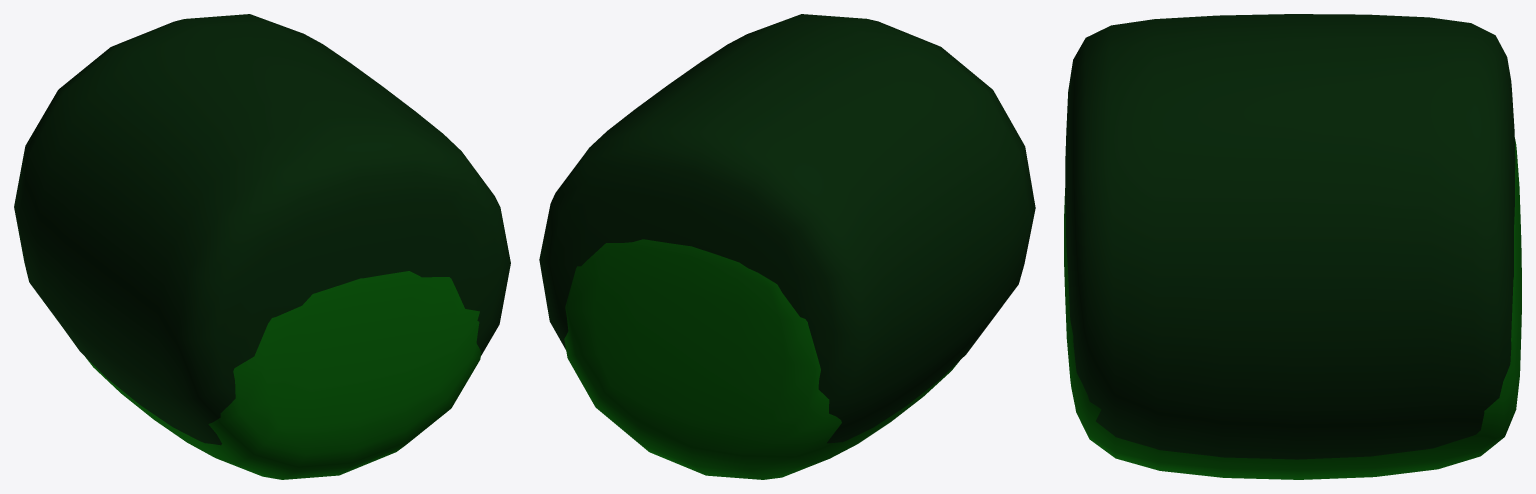
Rendered from worm_body.obj.
3 views of the same model, side by side, from view 1: azimuth 30°, elevation 25°; view 2: azimuth 150°, elevation 25°; view 3: azimuth 270°, elevation 25° (orthographic). The views are drawn at different scales.
Parts seen in each view (by area): view 1: Cube.002, Cube; view 2: Cube.002, Cube; view 3: Cube.002, Cube.
Boxes of the visible parts, x1,y1,x2,y2 form: Cube.002: (14, 14, 510, 445); Cube: (85, 271, 481, 479); Cube.002: (539, 14, 1035, 443); Cube: (564, 239, 959, 479); Cube.002: (1065, 14, 1515, 459); Cube: (1064, 137, 1521, 479).
Bounding box in the file's own units: 1.44 × 1.54 × 1.5.
